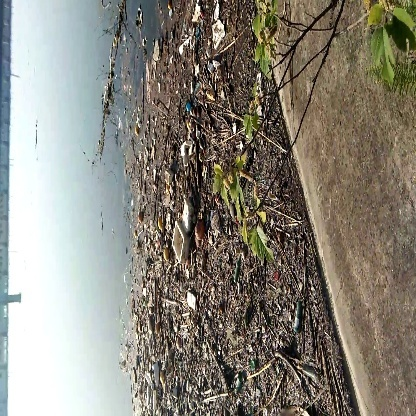plastic-garbage: (167, 202, 200, 267)
